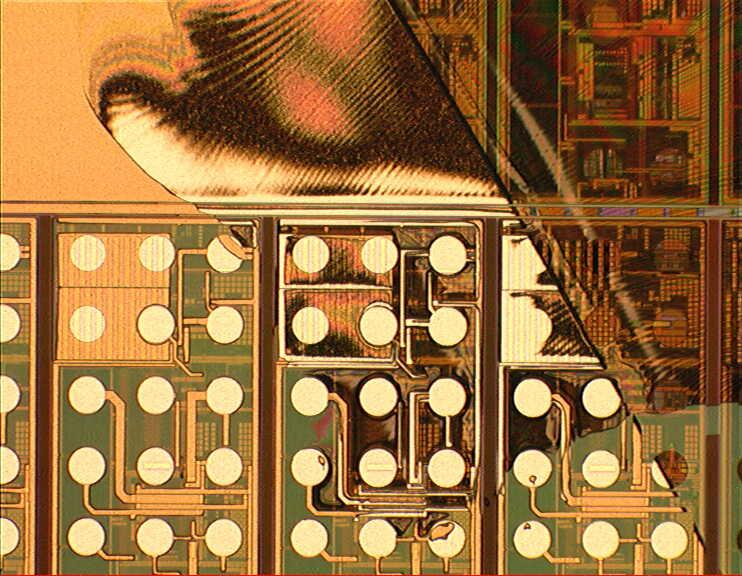COATING BAD: (71, 1, 742, 576)
